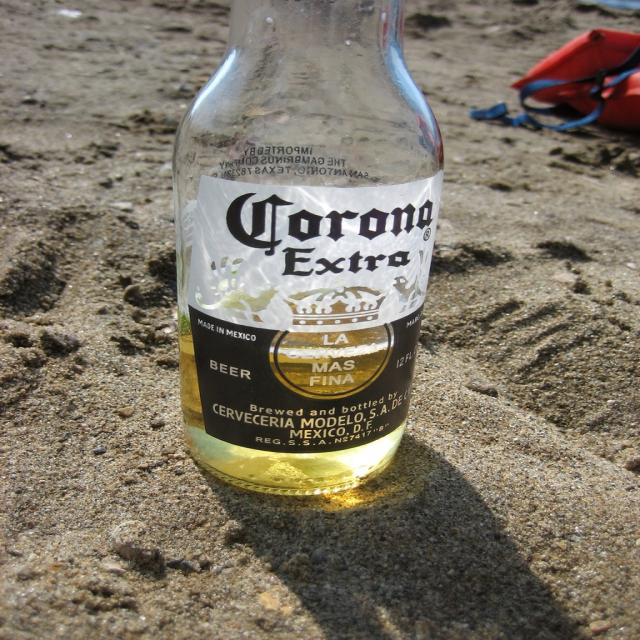corona: (188, 172, 446, 455)
